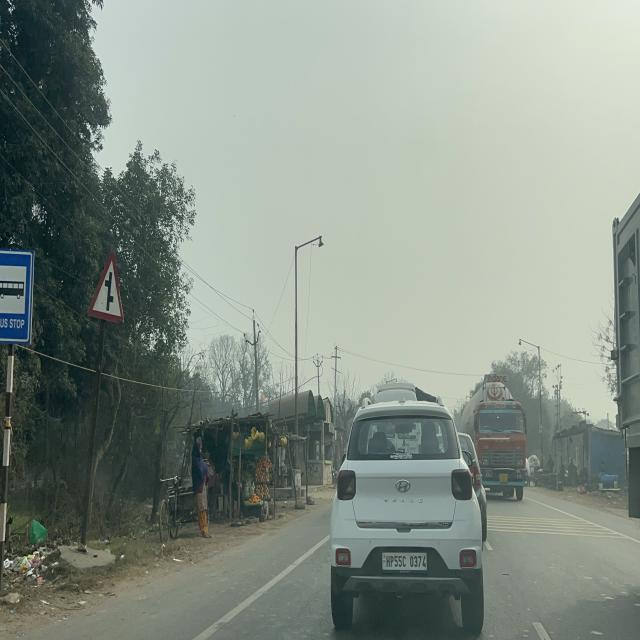INFORMATION: (0, 247, 34, 344)
STAGGERED_INTERSECTION: (88, 250, 125, 326)
